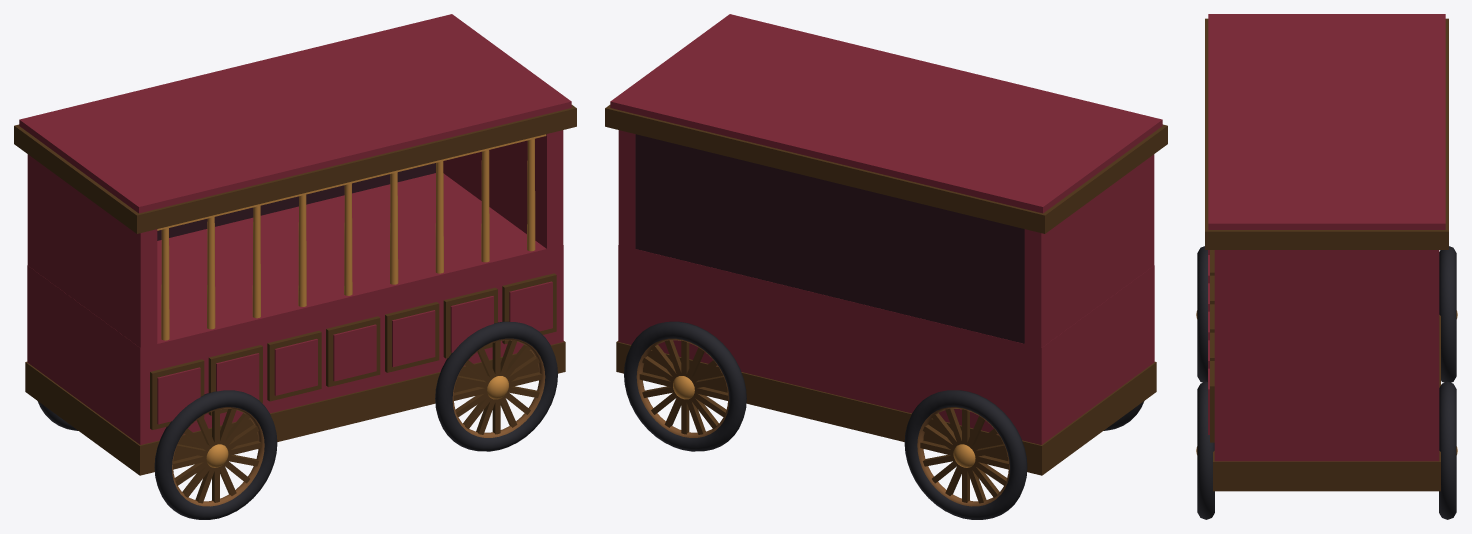
File: mia-circus_wagon.glb
3 views of the same model, side by side, from view 1: azimuth 30°, elevation 25°; view 2: azimuth 150°, elevation 25°; view 3: azimuth 270°, elevation 25° (orthographic).
Visible parts, largest first — view 1: Body_velvet, Body_wood, Body_iron, Body_brass, Body_dark, Body_oak; view 2: Body_velvet, Body_dark, Body_wood, Body_iron, Body_oak, Body_brass; view 3: Body_velvet, Body_wood, Body_iron.
Part boxes in pixels (x1,y1,x2,y2): Body_velvet: [19, 14, 571, 444]; Body_wood: [14, 105, 576, 503]; Body_iron: [37, 321, 557, 519]; Body_brass: [157, 134, 546, 467]; Body_dark: [157, 163, 435, 240]; Body_oak: [172, 338, 545, 506]; Body_velvet: [610, 14, 1162, 444]; Body_dark: [635, 134, 1024, 343]; Body_wood: [605, 105, 1167, 503]; Body_iron: [624, 321, 1144, 519]; Body_oak: [636, 338, 1009, 506]; Body_brass: [673, 376, 975, 467]; Body_velvet: [1208, 14, 1445, 461]; Body_wood: [1205, 18, 1448, 491]; Body_iron: [1197, 246, 1456, 519].
Bounding box in the file's own units: 3.09 × 2.21 × 1.6.
